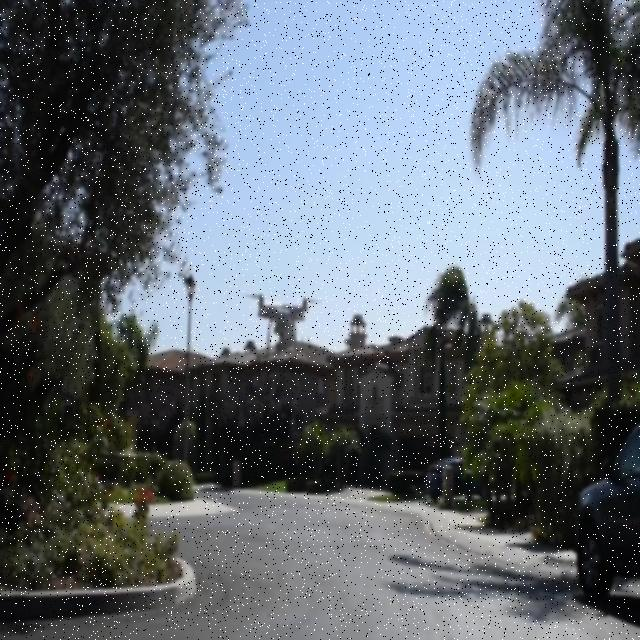UAV: (242, 291, 323, 361)
